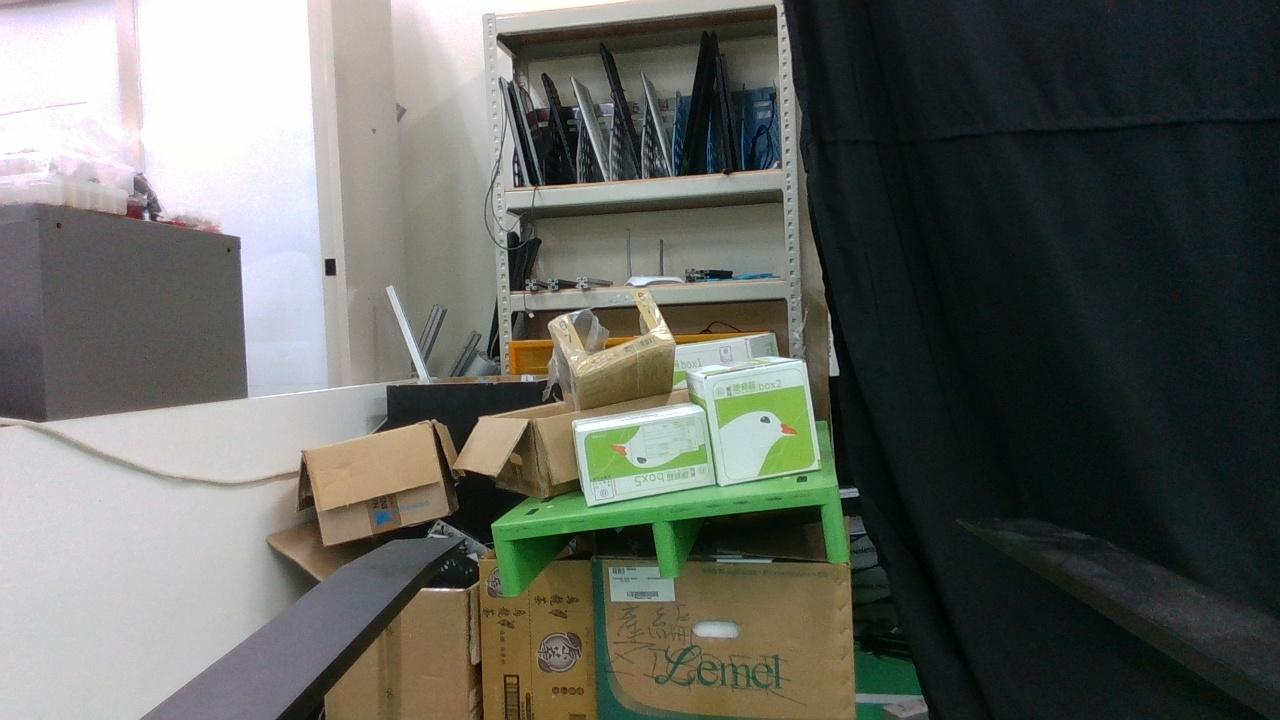Pallet: (490, 482, 850, 596)
